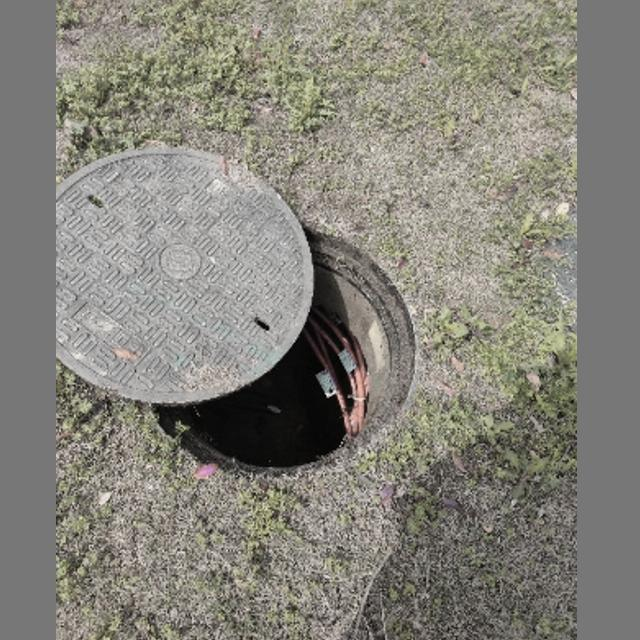uncovered: (57, 145, 419, 478)
